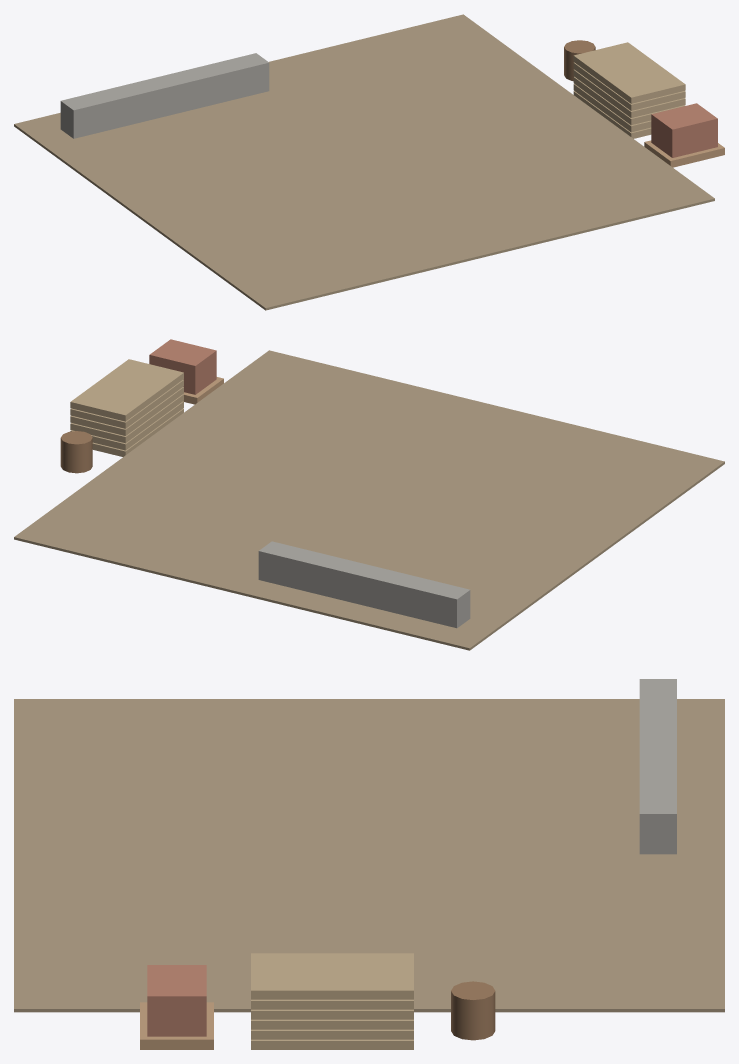
File: barn_site_1.glb
3 views of the same model, one above another, from view 1: azimuth 30°, elevation 25°; view 2: azimuth 150°, elevation 25°; view 3: azimuth 270°, elevation 25° (orthographic). The views are drawn at different scales.
Parts seen in each view (by area): view 1: body; view 2: body; view 3: body.
Boxes of the visible parts, bbox=[...] form: body: bbox=[14, 14, 724, 310]; body: bbox=[14, 339, 724, 650]; body: bbox=[14, 679, 724, 1049].
Bounding box in the file's own units: 2.22 × 0.176 × 1.92.
